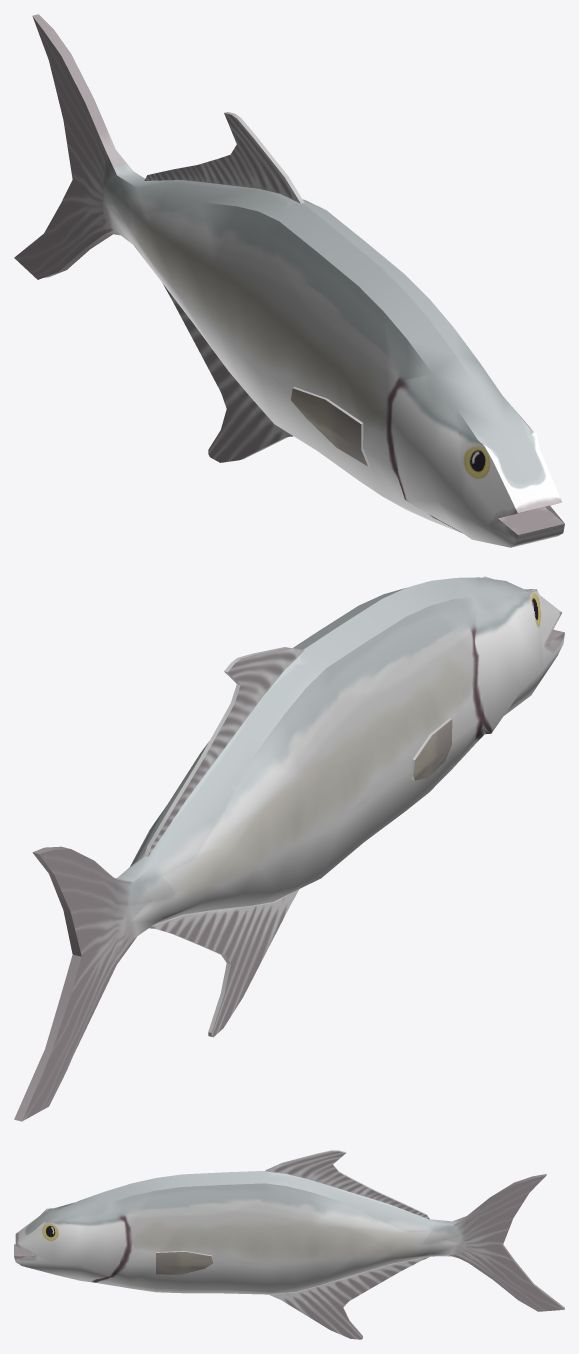
The model's file is Lichia_amia.fbx.
3 views of the same model, one above another, from view 1: azimuth 30°, elevation 25°; view 2: azimuth 150°, elevation 25°; view 3: azimuth 270°, elevation 25° (orthographic). The views are drawn at different scales.
Parts seen in each view (by area): view 1: Herrera; view 2: Herrera; view 3: Herrera.
Part boxes in pixels (box(x1,y1,x2,y2)): Herrera: box(14, 14, 564, 547); Herrera: box(14, 576, 564, 1121); Herrera: box(14, 1150, 564, 1339).
Bounding box in the file's own units: 63.76 × 179 × 473.
1 material, 1 textured.
